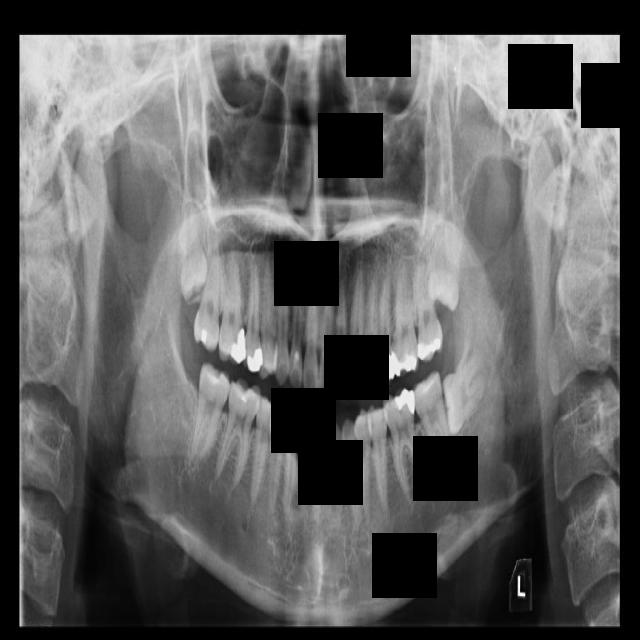3M ESPE Implant: (179, 202, 210, 300)
52: (190, 359, 240, 405), (409, 320, 457, 367), (228, 377, 261, 420), (193, 310, 221, 355), (383, 389, 415, 428), (217, 326, 247, 367), (390, 337, 419, 378), (240, 337, 265, 375), (375, 347, 394, 386), (287, 348, 304, 389)
73: (592, 558, 594, 574)
BioHorizons Implant: (413, 242, 445, 362)
BioLife Implant: (428, 204, 462, 309)
Biomet 3i Implant: (439, 355, 490, 435)
Blue Sky Bio Implant: (408, 371, 456, 474)
Caries: (193, 239, 221, 357)
Implant: (187, 359, 233, 469)
